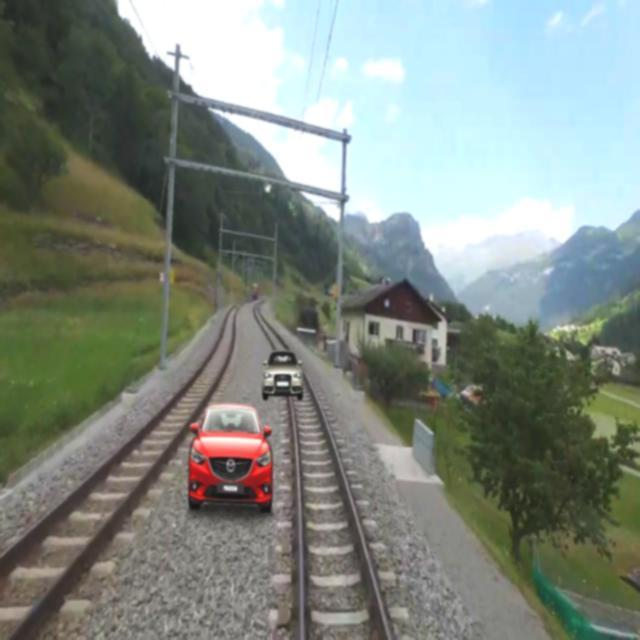rail: (1, 300, 247, 640), (247, 295, 422, 640)
